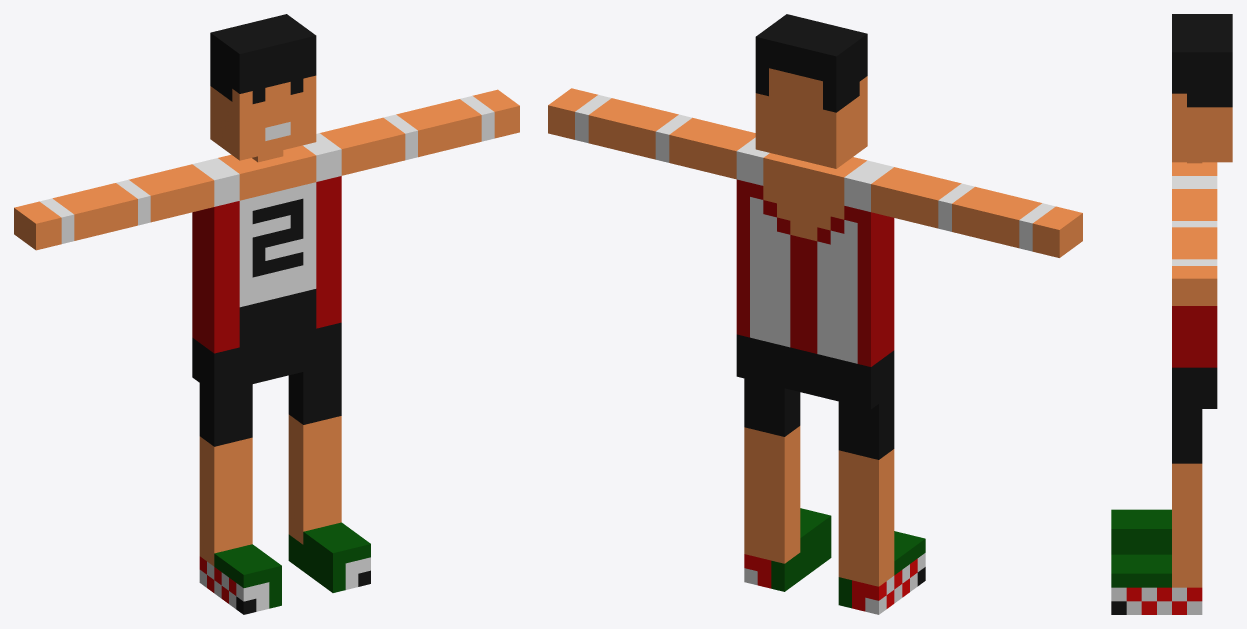
File: basic_ch - Copy.obj
The picture shows the model from 3 angles, left to right: view 1: azimuth 30°, elevation 25°; view 2: azimuth 150°, elevation 25°; view 3: azimuth 270°, elevation 25°; orthographic projection. The views are drawn at different scales.
Size of the model in its own units: 38 by 40 by 8.
Materials: 1 (1 with a texture image).
